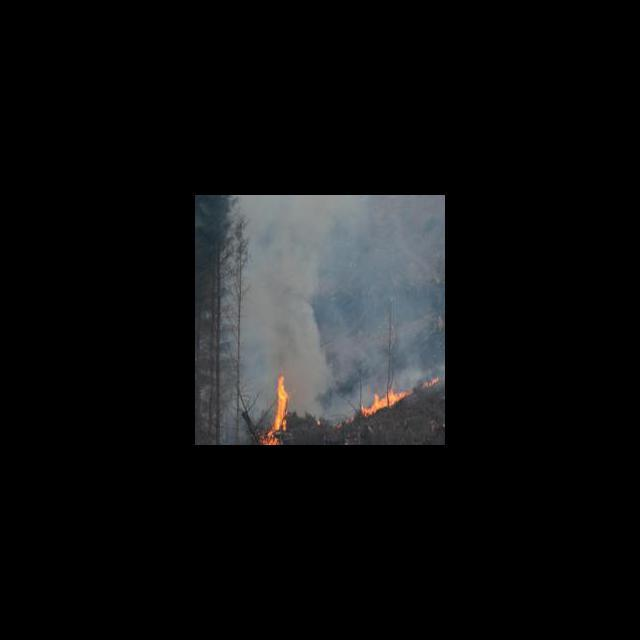Fire: (350, 372, 440, 422), (256, 373, 290, 445)
Smoke: (248, 196, 322, 370)
